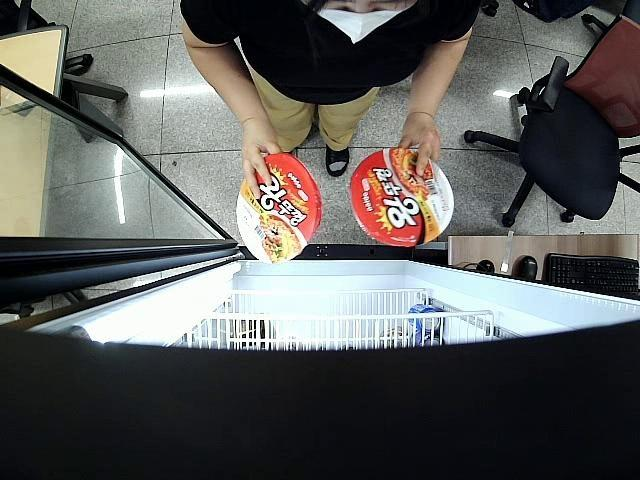10_wangTtukkeong: (350, 149, 454, 246), (235, 154, 324, 262)
